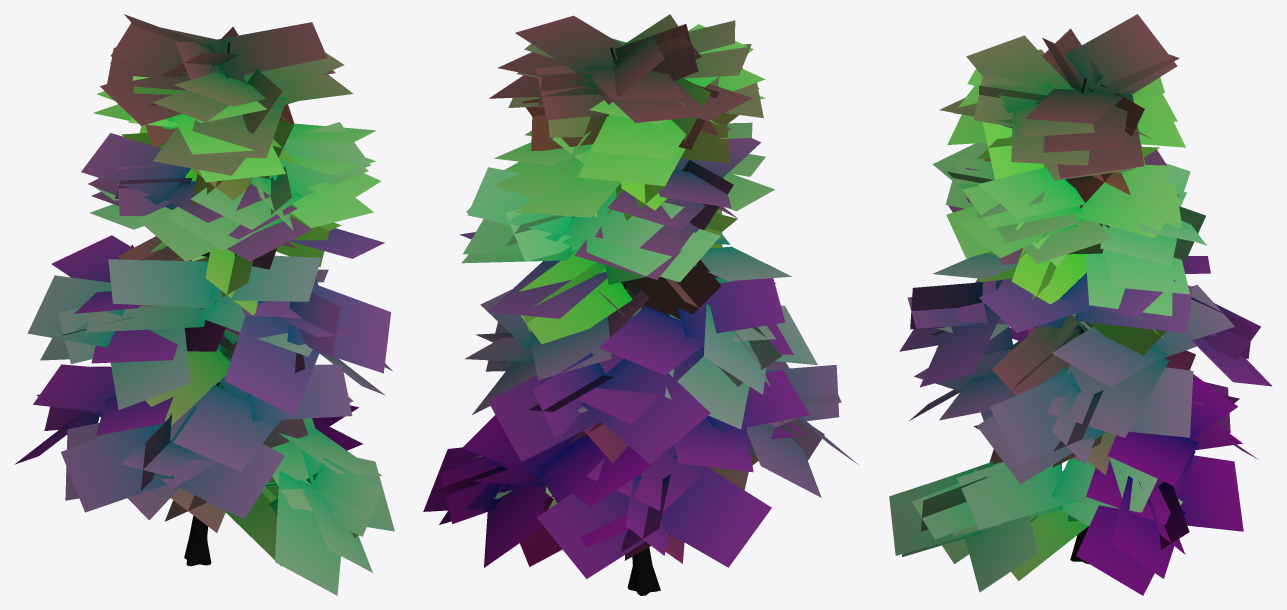
File: Tree_1_6.fbx
3 views of the same model, side by side, from view 1: azimuth 30°, elevation 25°; view 2: azimuth 150°, elevation 25°; view 3: azimuth 270°, elevation 25° (orthographic). The views are drawn at different scales.
Visible parts, largest first — view 1: _6; view 2: _6; view 3: _6.
Boxes of the visible parts, x1,y1,x2,y2 form: _6: [14, 14, 394, 595]; _6: [423, 14, 859, 595]; _6: [889, 14, 1271, 595].
Size of the model in its own units: 1132 by 1741 by 1159.
